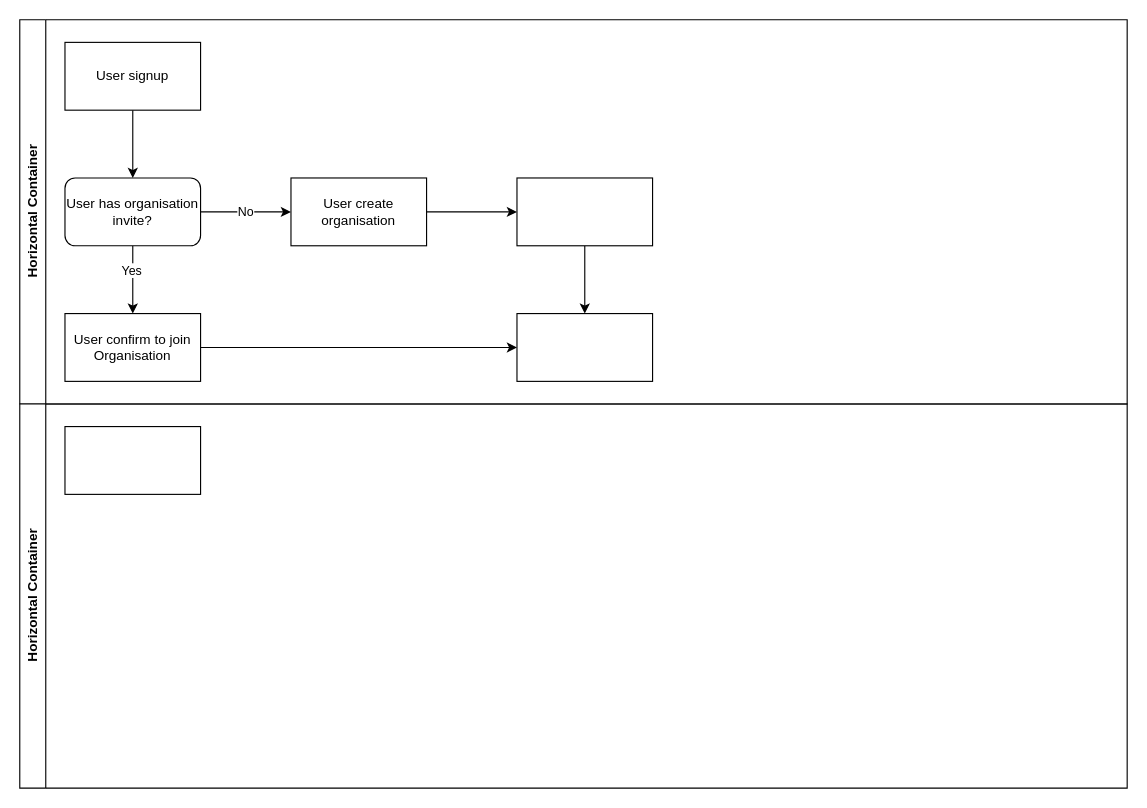
The diagram is 1147 pixels wide and 808 high, and some of its shapes have lost their labels. The box of each missing label's shape, as (x1, y1, x2, y2) in pixels:
Decide Organisation Plan: (516, 177, 653, 246)
Goes into main settings page of Accounts: (516, 312, 653, 381)
User Login: (64, 425, 201, 494)
